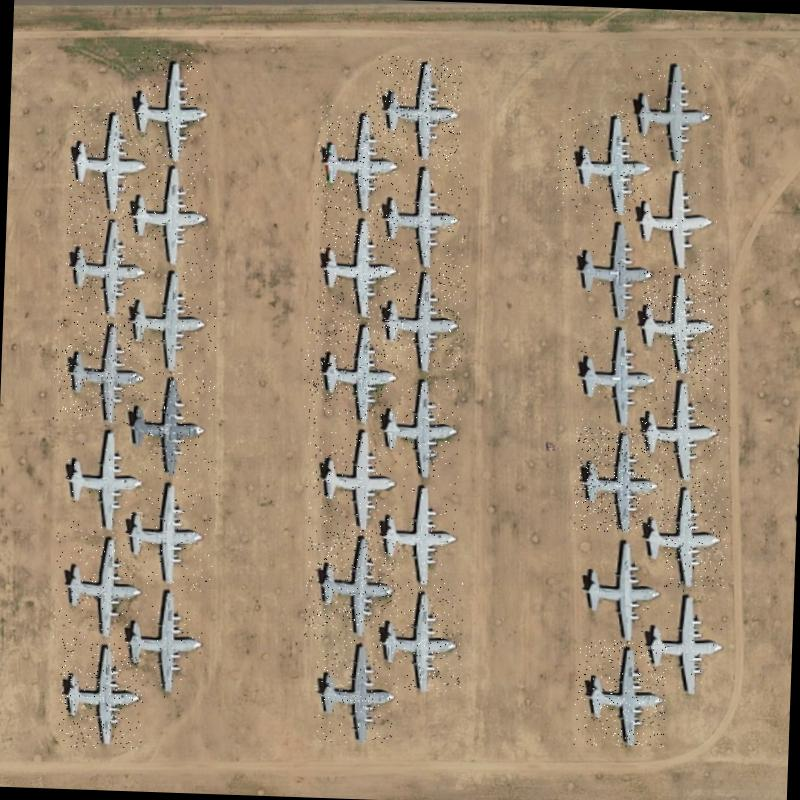A2: (554, 107, 659, 218), (620, 51, 718, 168), (118, 476, 217, 590), (304, 528, 400, 642), (570, 530, 665, 645), (302, 315, 404, 422), (114, 370, 215, 478), (125, 260, 219, 374), (377, 260, 468, 376), (304, 422, 404, 527), (568, 318, 660, 432), (632, 162, 722, 277), (573, 638, 667, 748), (374, 580, 464, 694), (52, 526, 142, 640), (313, 628, 401, 744), (68, 99, 157, 213), (572, 426, 664, 536), (378, 159, 469, 270), (639, 372, 728, 485), (56, 421, 148, 529), (373, 55, 463, 165), (57, 636, 144, 749), (640, 266, 729, 376), (316, 205, 398, 323), (314, 103, 404, 210), (52, 319, 144, 423), (128, 46, 209, 164), (380, 366, 462, 482), (638, 588, 726, 696), (374, 475, 458, 588), (123, 157, 210, 266), (640, 482, 728, 589), (64, 210, 150, 318), (124, 586, 204, 698), (575, 213, 655, 321)
